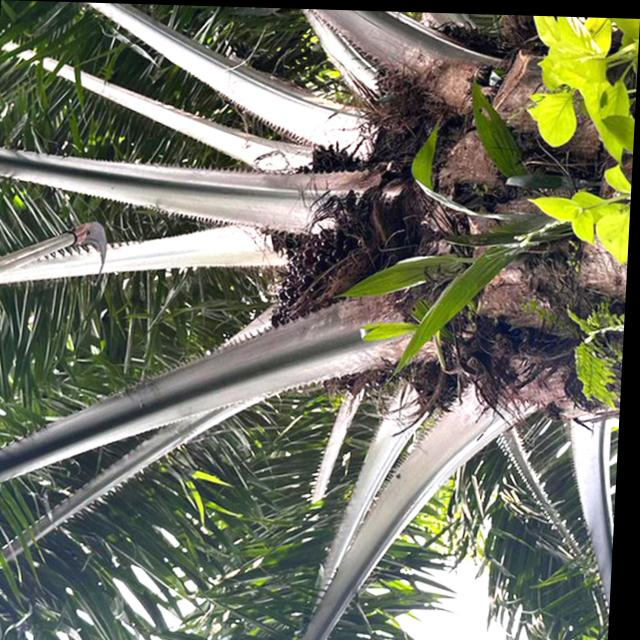unripe: (256, 219, 385, 334)
